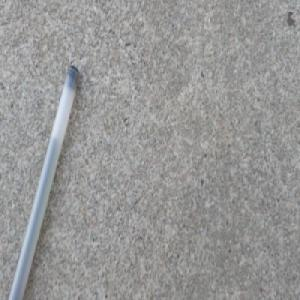Pen: (7, 62, 81, 300)
